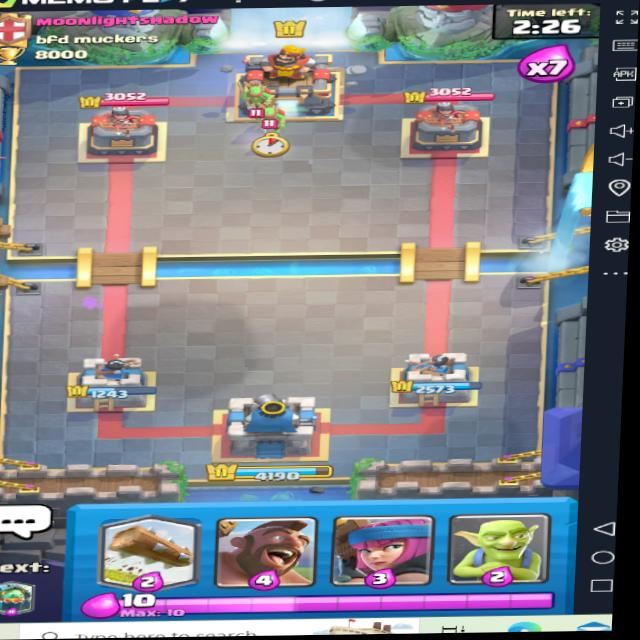spear-goblin: (233, 79, 272, 112), (259, 101, 291, 132)
